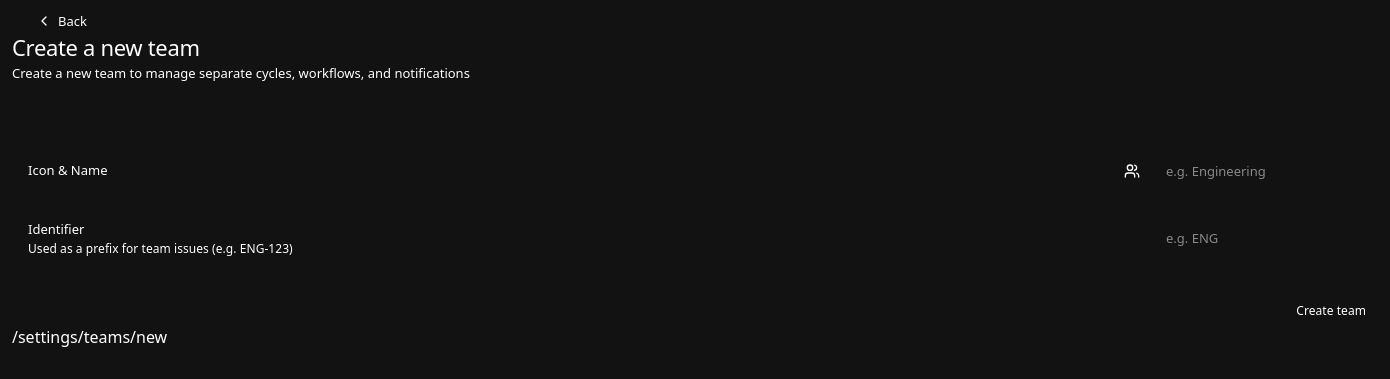
Test: TeamCreatePage › BAD_REQUEST mostra a mensagem no campo do nome
Type "Platform" into the field labelled "Icon & Name" at (1258, 171), box x1=1154 y1=155 x2=1362 y2=187
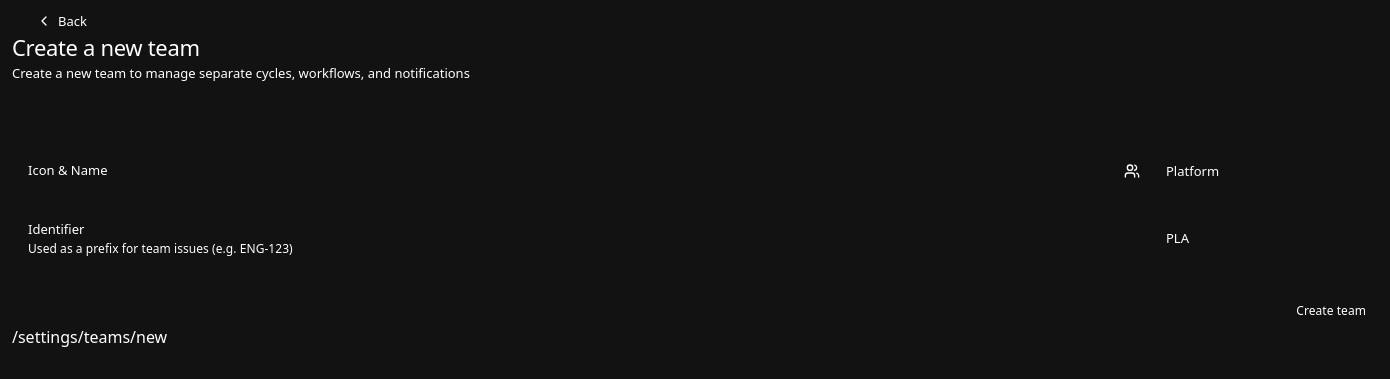
Click the button "Create team" at (1331, 311), box x1=1284 y1=297 x2=1378 y2=325
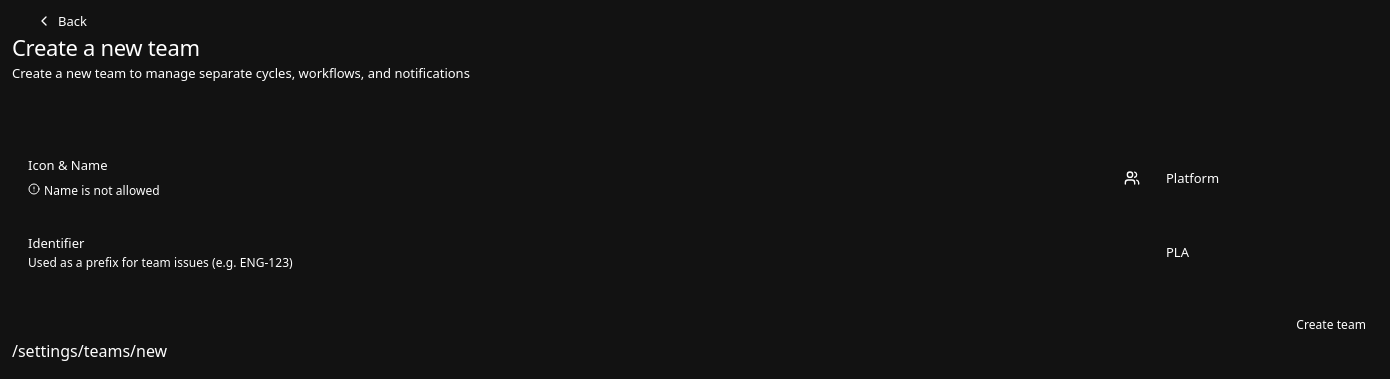
Expected: the text named "Current URL" reads "/settings/teams/new", x1=12 y1=340 x2=167 y2=362
Now the text "Name is not allowed" is shown, box x1=44 y1=183 x2=160 y2=199
